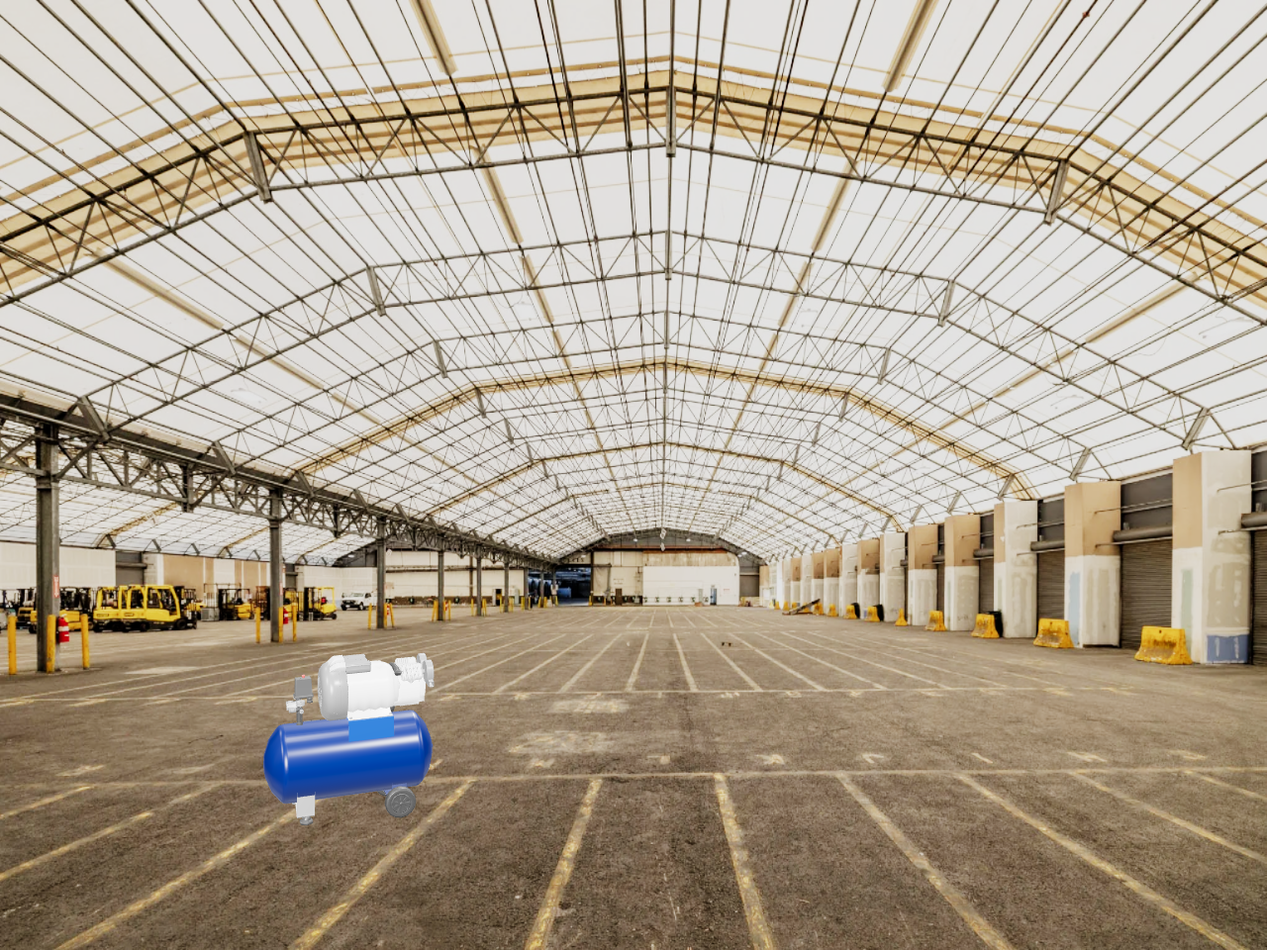Compressor: (263, 653, 434, 826)
